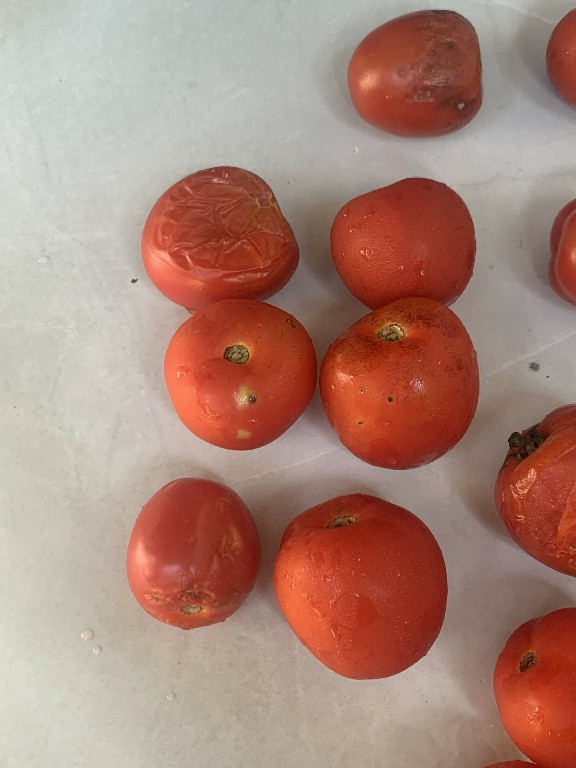NG: (317, 294, 487, 473), (153, 300, 319, 459), (111, 471, 267, 635), (129, 158, 308, 300), (337, 6, 505, 145), (491, 404, 576, 577)
OK: (274, 483, 459, 690), (322, 173, 490, 306), (491, 598, 576, 768)
